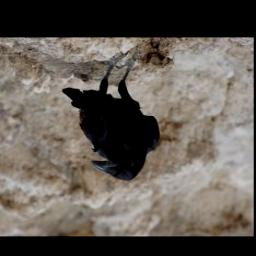Crow: (61, 54, 159, 182)
